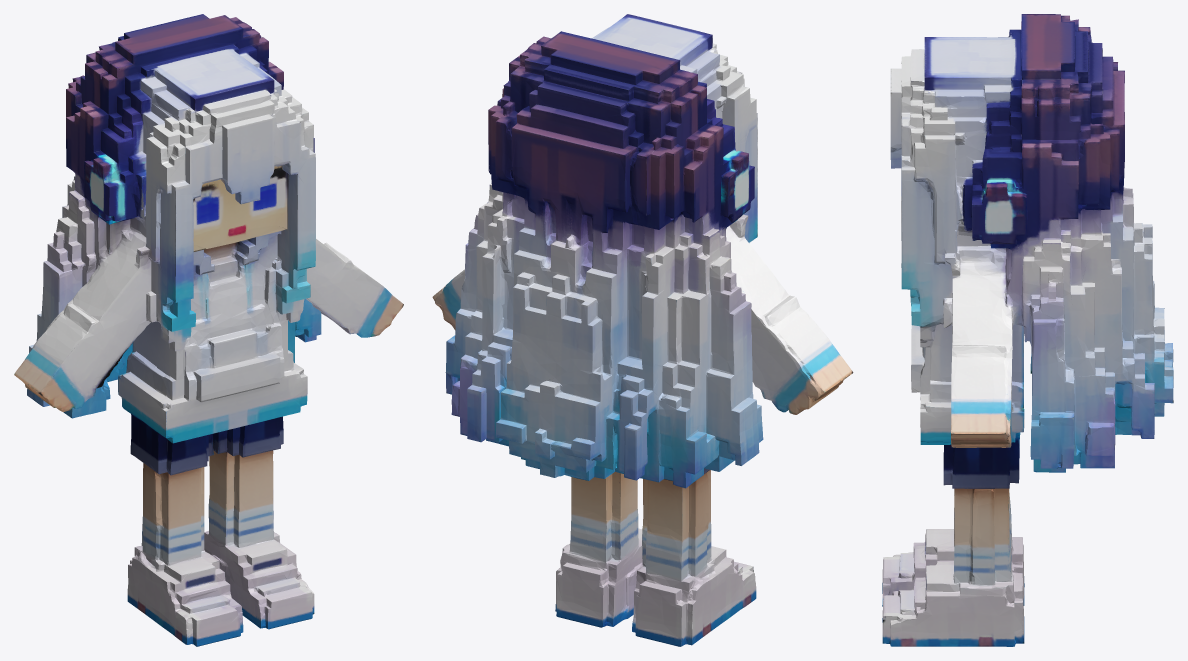
File: heroine.glb
3 views of the same model, side by side, from view 1: azimuth 30°, elevation 25°; view 2: azimuth 150°, elevation 25°; view 3: azimuth 270°, elevation 25° (orthographic). The views are drawn at different scales.
Visible parts, largest first — view 1: world; view 2: world; view 3: world.
Boxes of the visible parts, bbox=[...] form: world: bbox=[14, 14, 403, 646]; world: bbox=[432, 14, 853, 646]; world: bbox=[882, 14, 1173, 646].
Size of the model in its own units: 0.7027 by 0.9989 by 0.4608.
1 material, 1 textured.
